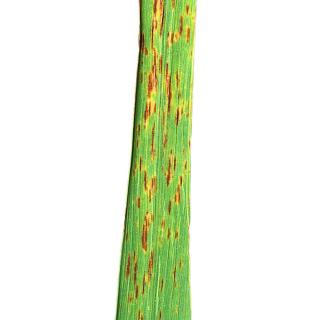Bercak-Cokelat-Sempit: (137, 128, 187, 188), (139, 54, 177, 126), (152, 0, 199, 43), (128, 256, 156, 296), (133, 196, 151, 253), (176, 93, 192, 125), (140, 32, 152, 54), (167, 193, 180, 212), (161, 219, 167, 232), (168, 232, 175, 242)
